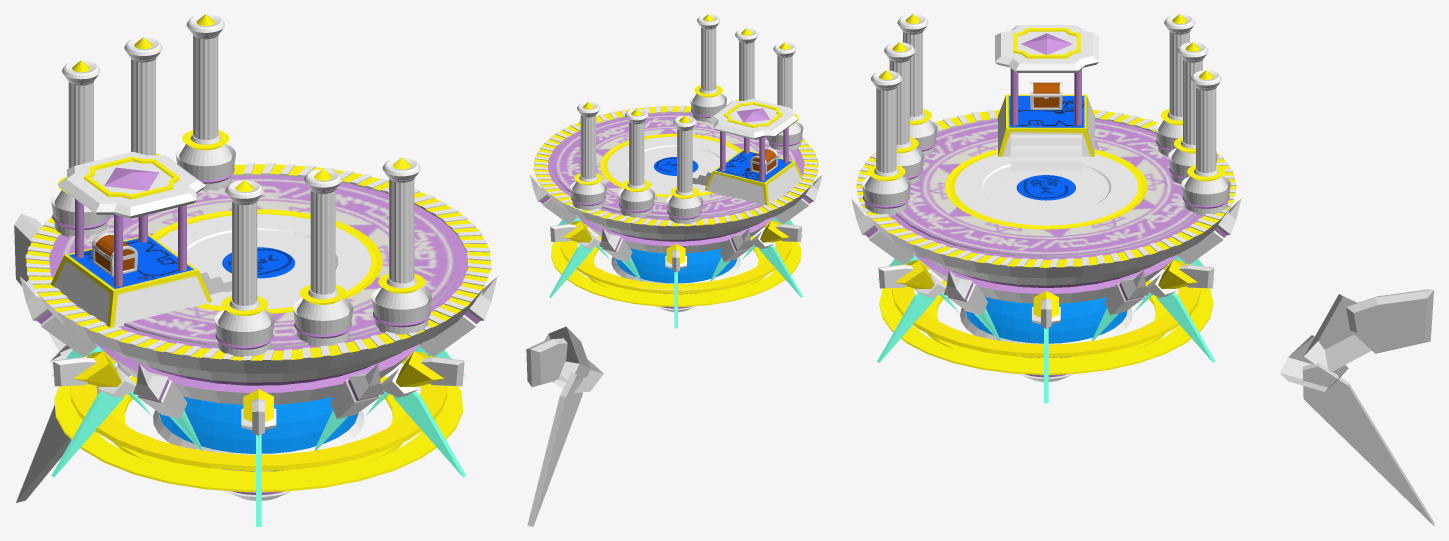
The model's file is sinden.glb.
The picture shows the model from 3 angles, left to right: view 1: azimuth 30°, elevation 25°; view 2: azimuth 150°, elevation 25°; view 3: azimuth 270°, elevation 25°; orthographic projection. The views are drawn at different scales.
Visible parts, largest first — view 1: Circle, Circle.002, Circle.007, Cylinder.006, Plane.002, Circle.001, Circle.005, Plane, Cylinder.004, Cylinder.005, Cylinder.003, Cylinder.002 (+9 smaller); view 2: Circle, Circle.002, Plane.001, Circle.007, Cylinder.006, Plane.002, Circle.001, Circle.005, Plane, Cylinder.002, Cylinder.001, Cylinder (+9 smaller); view 3: Circle, Plane.001, Circle.002, Circle.007, Cylinder.006, Circle.001, Plane.002, Circle.005, Plane, Cylinder.002, Cylinder.005, Cylinder.004 (+9 smaller).
Boxes of the visible parts, box(x1,y1,x2,y2) form: Circle: box(25, 163, 491, 404); Circle.002: box(54, 350, 462, 492); Circle.007: box(26, 164, 490, 360); Cylinder.006: box(57, 151, 205, 286); Plane.002: box(50, 240, 231, 327); Circle.001: box(19, 276, 497, 419); Circle.005: box(159, 396, 358, 453); Plane: box(53, 351, 464, 435); Cylinder.004: box(293, 169, 353, 346); Cylinder.005: box(371, 157, 431, 334); Cylinder.003: box(214, 180, 274, 356); Cylinder.002: box(175, 14, 235, 190); Circle: box(533, 105, 818, 253); Circle.002: box(551, 220, 801, 306); Plane.001: box(526, 326, 603, 526); Circle.007: box(533, 106, 818, 226); Cylinder.006: box(708, 98, 798, 180); Plane.002: box(692, 152, 803, 205); Circle.001: box(530, 175, 822, 262); Circle.005: box(615, 248, 736, 283); Plane: box(550, 220, 801, 272); Cylinder.002: box(570, 102, 606, 210); Cylinder.001: box(618, 109, 654, 217); Cylinder: box(666, 116, 703, 223); Circle: box(856, 109, 1236, 303); Plane.001: box(1280, 289, 1434, 526); Circle.002: box(879, 260, 1213, 374); Circle.007: box(856, 110, 1236, 267); Cylinder.006: box(995, 25, 1098, 125); Circle.001: box(851, 199, 1241, 315); Plane.002: box(997, 95, 1094, 171); Circle.005: box(965, 297, 1127, 343); Plane: box(878, 260, 1214, 328); Cylinder.002: box(1181, 70, 1230, 215); Cylinder.005: box(862, 70, 910, 215); Cylinder.004: box(875, 42, 924, 184).
Size of the model in its own units: 29.26 by 39.3 by 43.96.
Materials: 4 (4 with a texture image).
